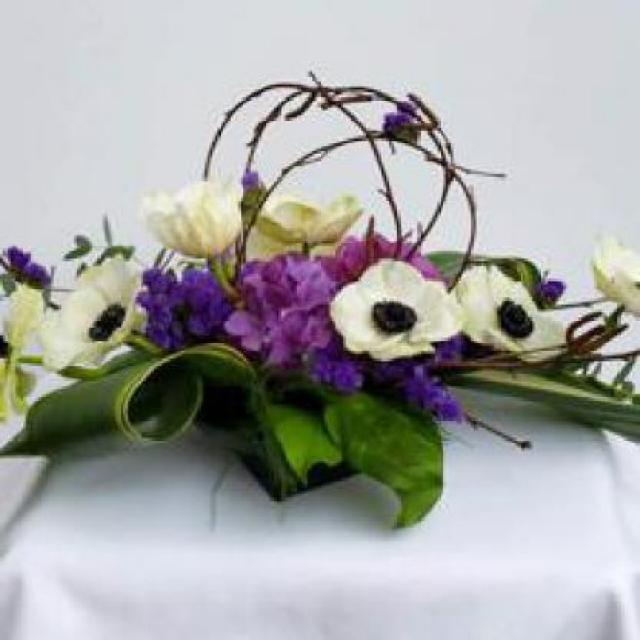Flower: (328, 259, 466, 362), (449, 264, 573, 364), (39, 259, 146, 370), (146, 182, 243, 259), (251, 192, 363, 249), (89, 299, 126, 341), (499, 299, 536, 341), (373, 302, 418, 333)
